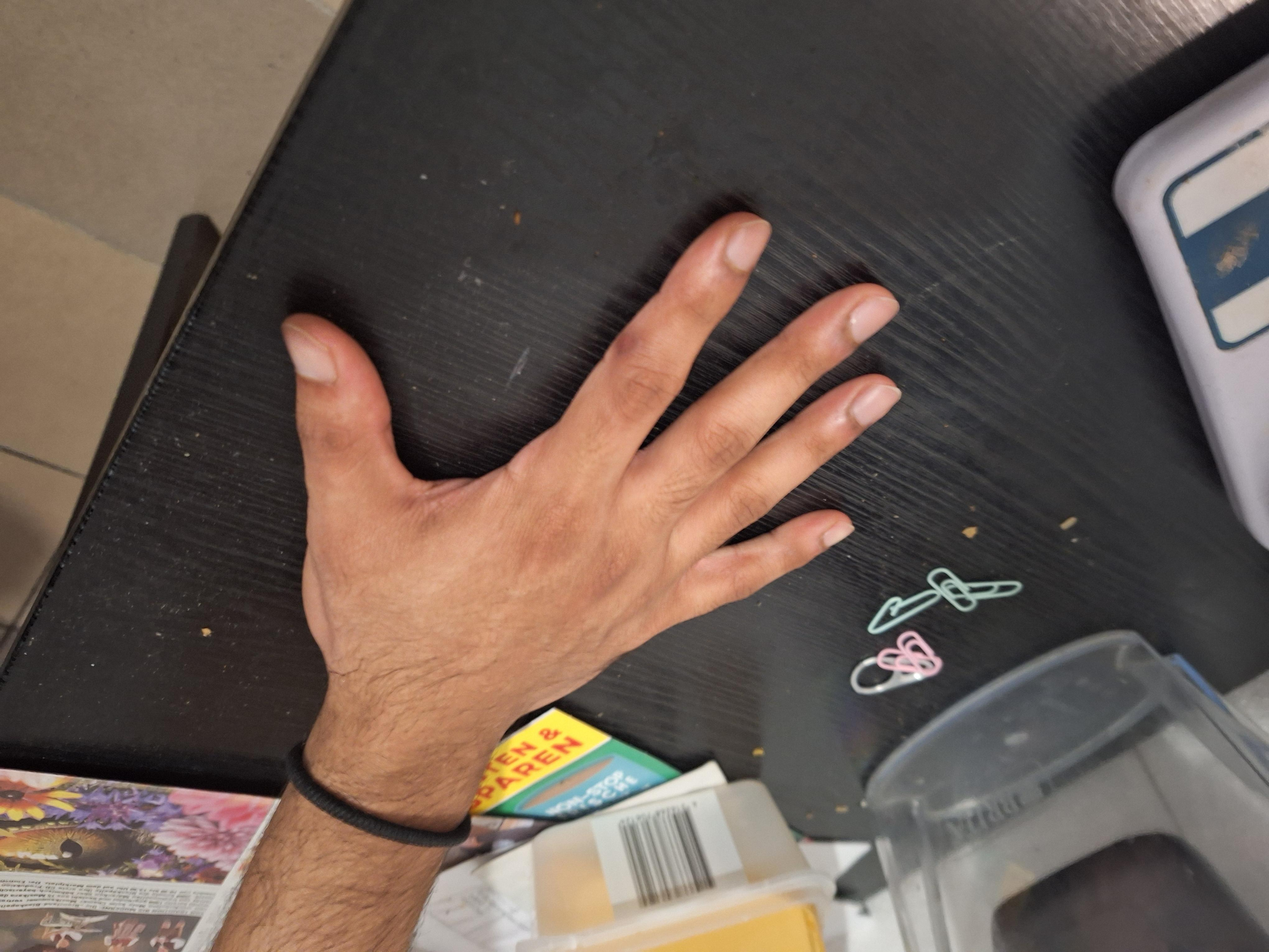Fingernail: (283, 324, 338, 383), (726, 220, 771, 272), (851, 297, 899, 344), (851, 384, 901, 427), (823, 522, 855, 548)
